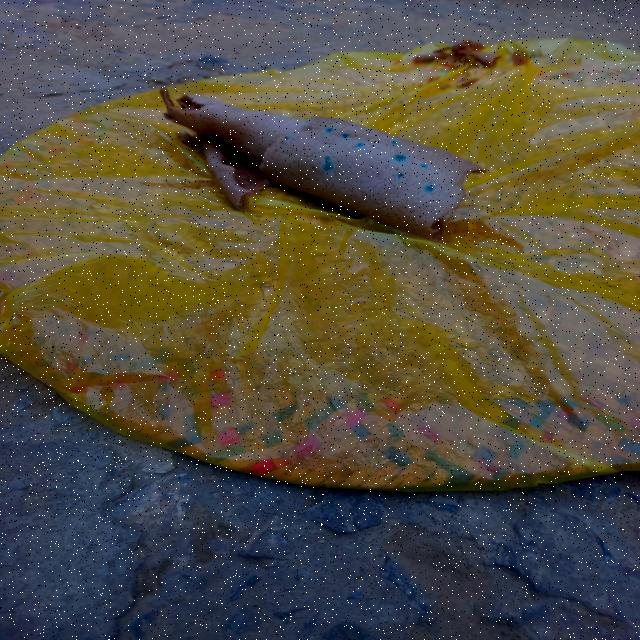injera_mold: (320, 155, 334, 173), (391, 154, 407, 162), (424, 184, 435, 193), (339, 132, 350, 140), (389, 139, 400, 145), (395, 172, 406, 178), (354, 142, 364, 147), (419, 163, 429, 168), (326, 126, 332, 133), (284, 135, 289, 141)
